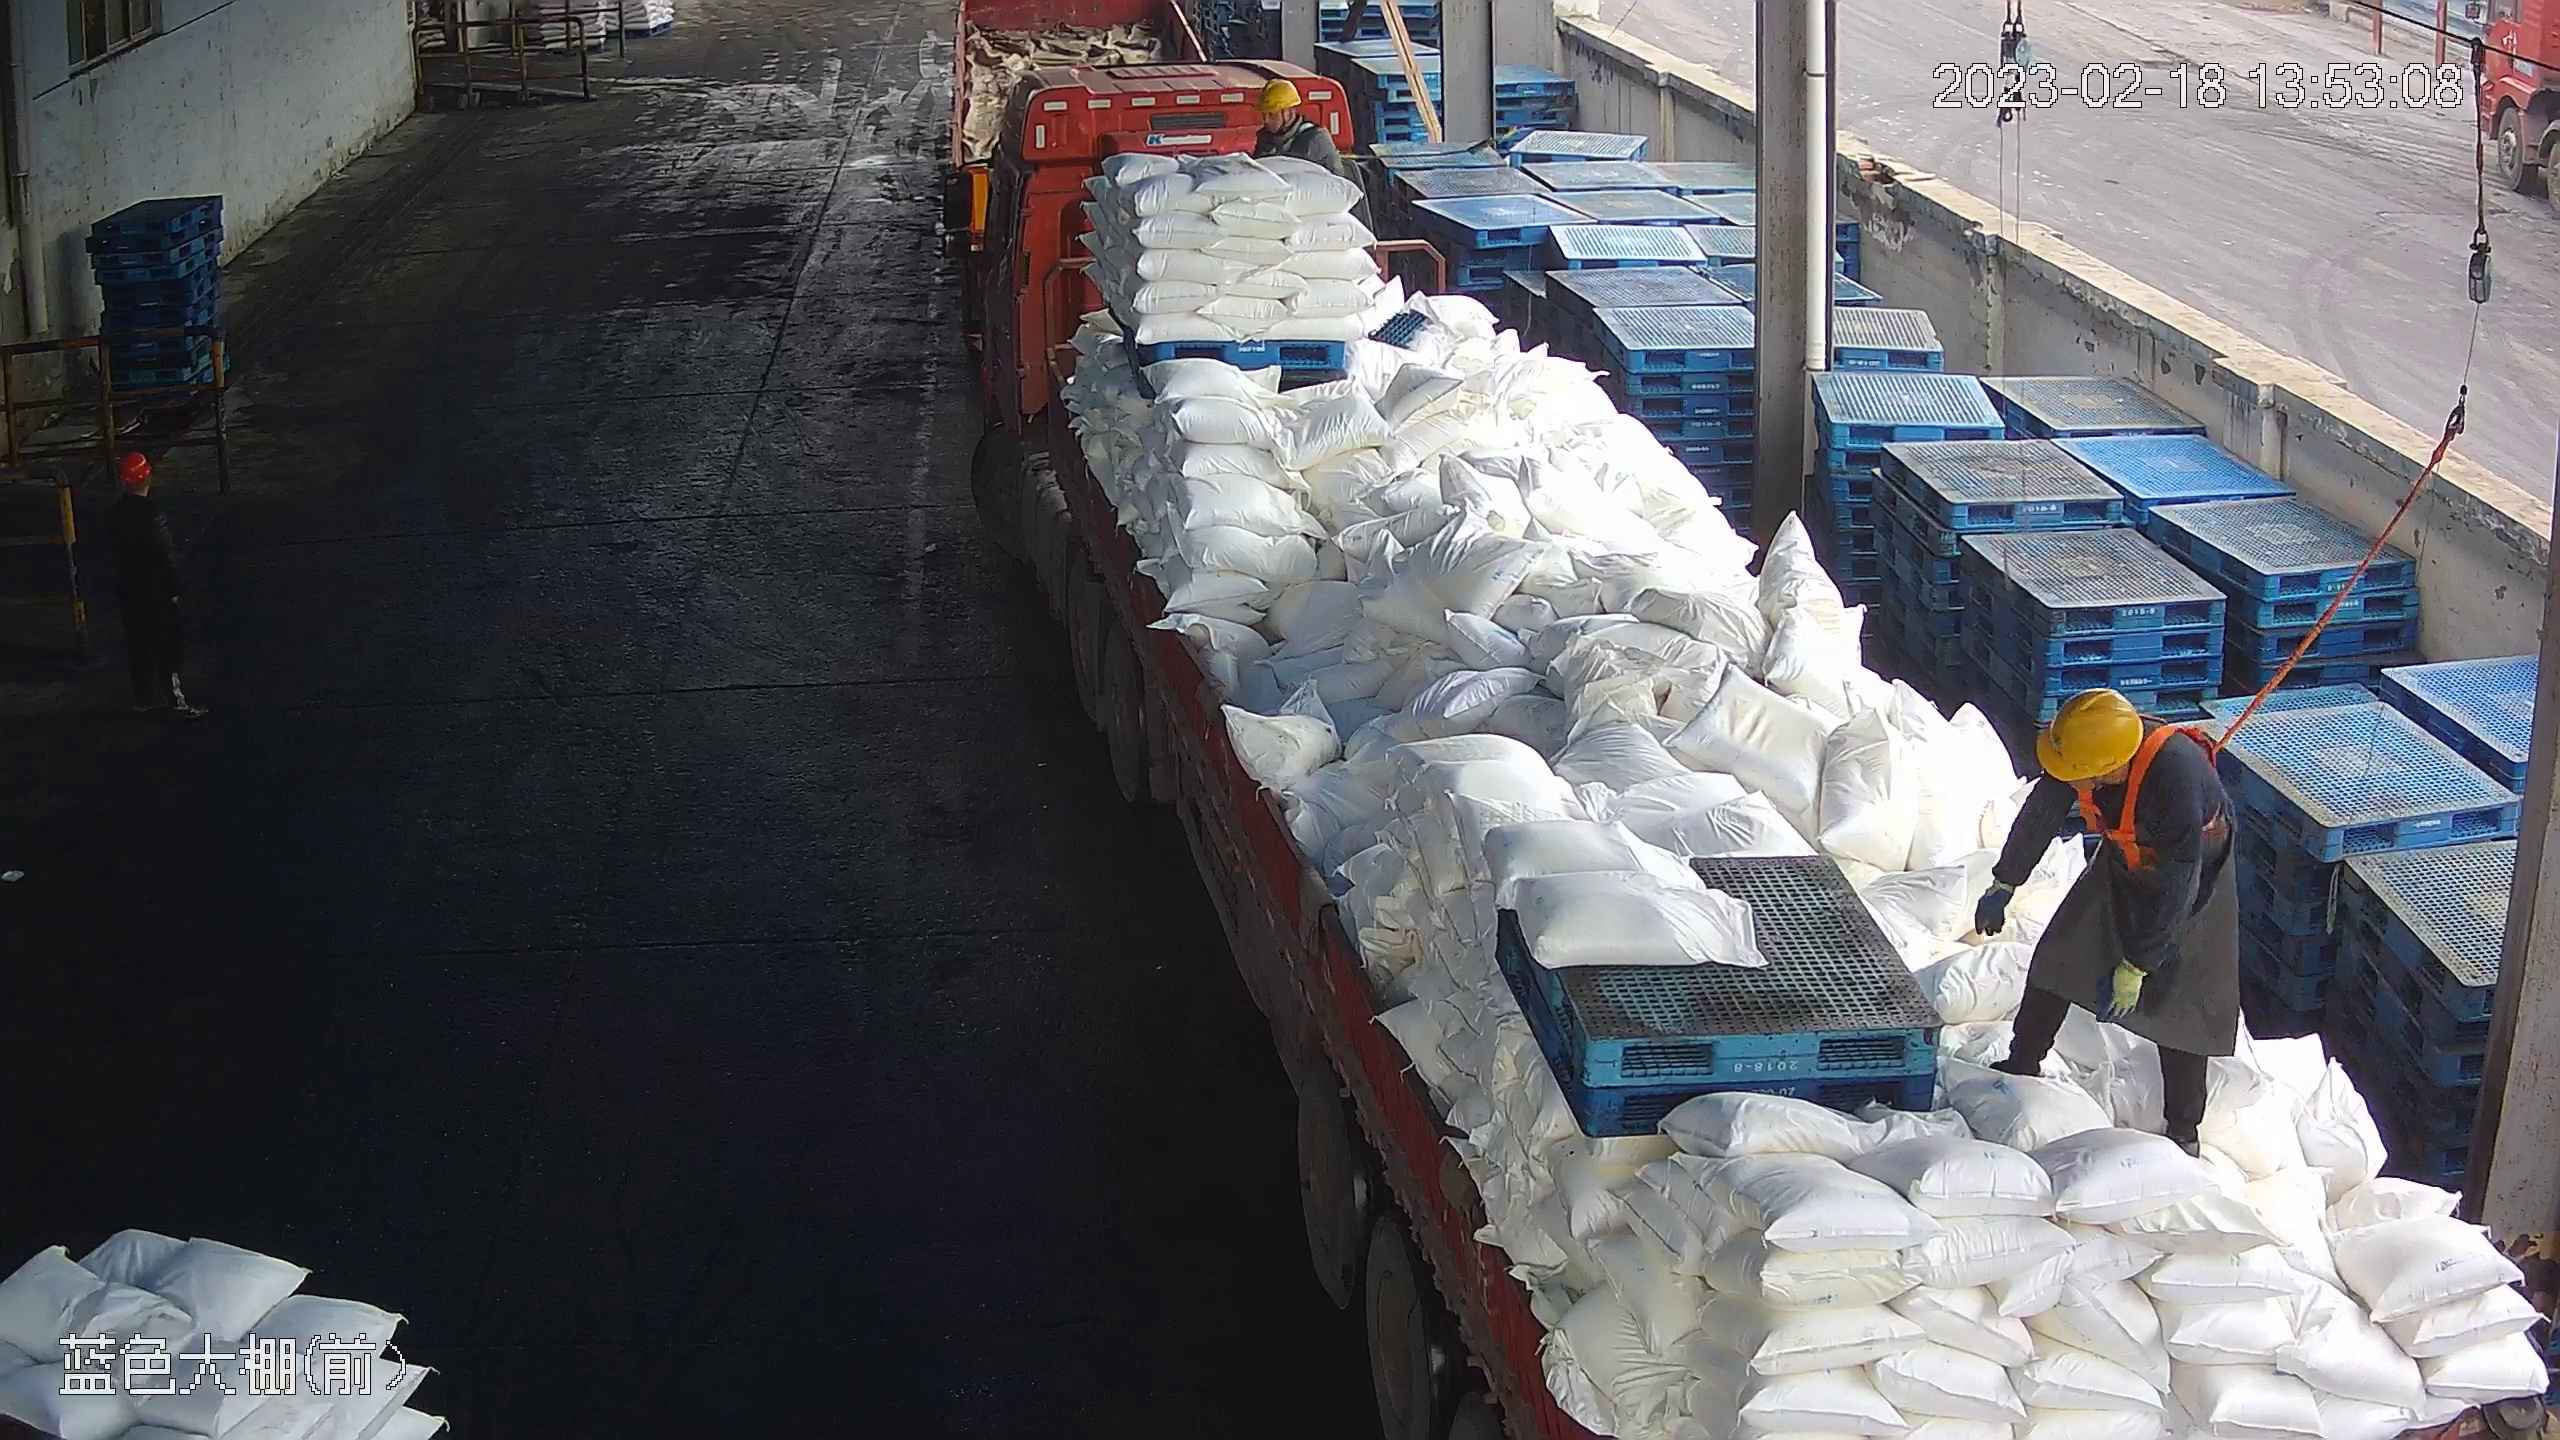belt: (2085, 721, 2224, 868), (1266, 123, 1322, 158)
head: (2019, 688, 2215, 861), (1254, 79, 1340, 161), (110, 452, 173, 542)
helmet: (2037, 685, 2144, 782), (1258, 78, 1301, 112), (119, 450, 152, 486)
people: (1975, 689, 2249, 1160), (111, 451, 208, 725)
truck: (940, 54, 2560, 1440)
